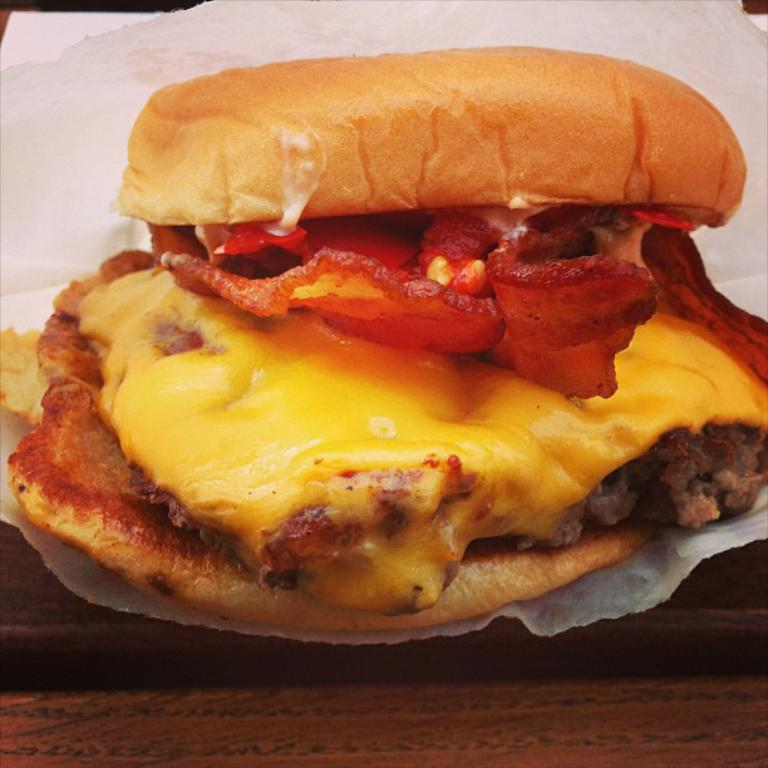Hamburger: (0, 43, 766, 646)
